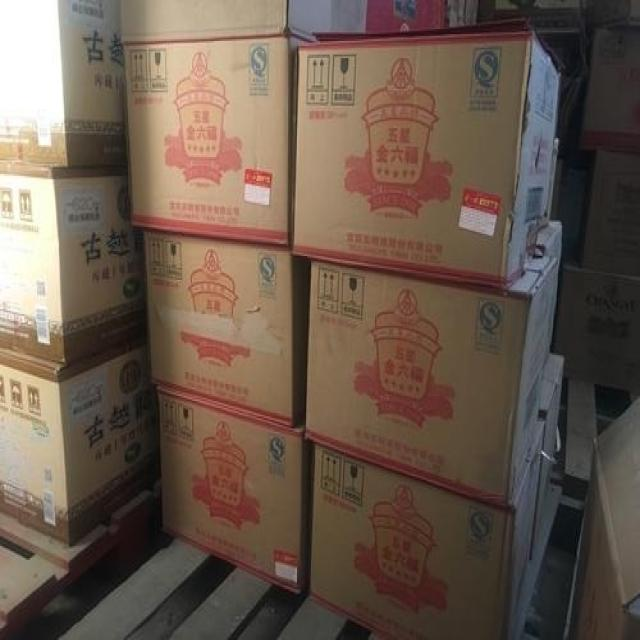box: (305, 224, 563, 503), (296, 36, 559, 290), (312, 425, 547, 640), (122, 38, 312, 246), (0, 333, 159, 548), (143, 227, 306, 430), (156, 387, 305, 597), (0, 167, 148, 365), (0, 2, 128, 167), (567, 399, 639, 638), (554, 270, 640, 393), (122, 0, 366, 41), (577, 145, 640, 276), (581, 32, 640, 155), (534, 353, 564, 551)
